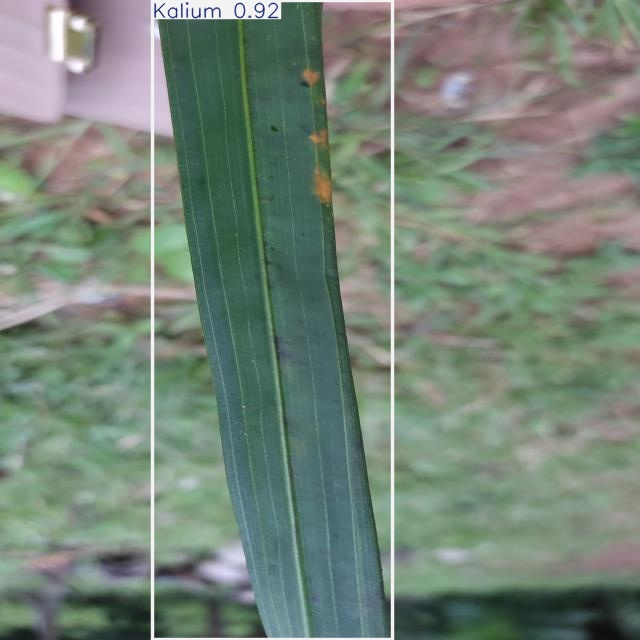Kalium: (152, 0, 392, 639)
